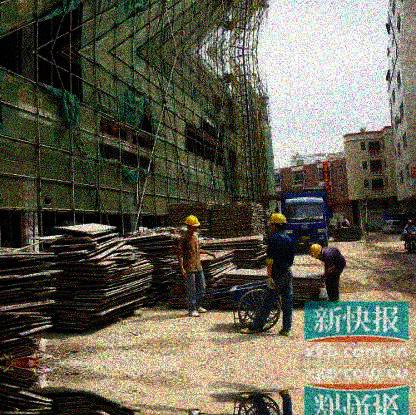helmet: (268, 213, 289, 234), (183, 214, 202, 235), (310, 243, 325, 260)
